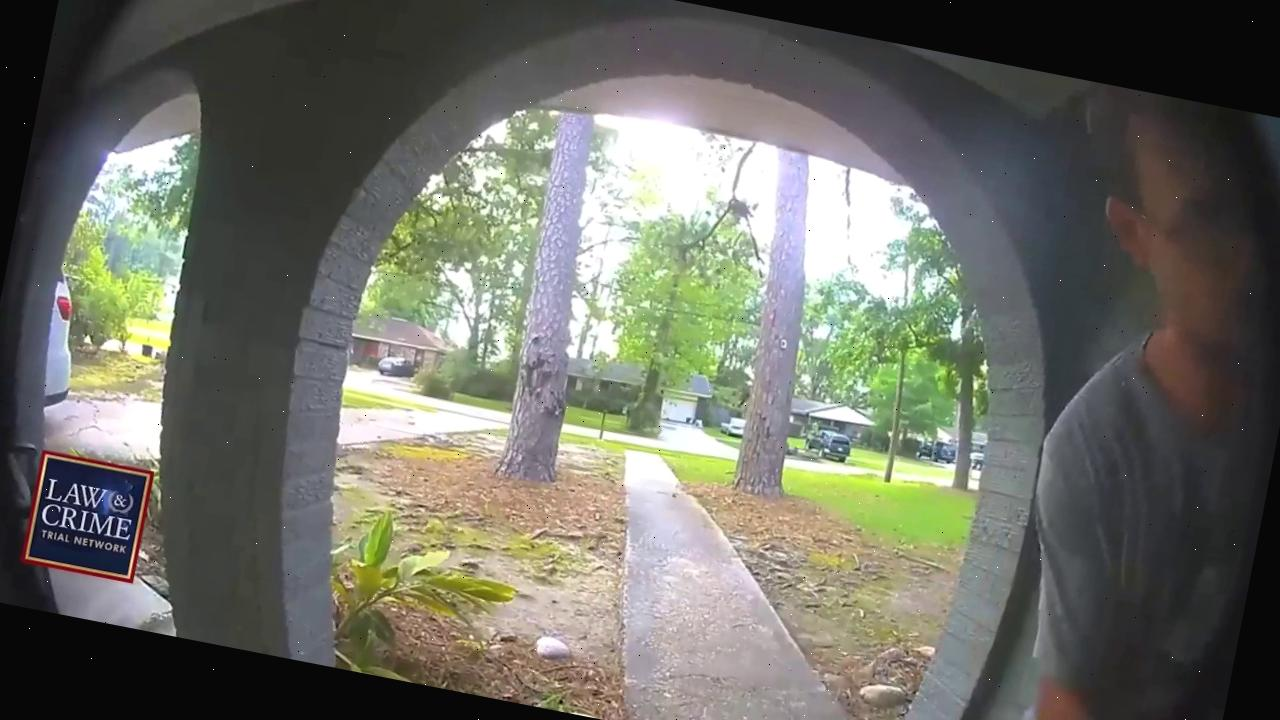suspicion: (918, 85, 1280, 720)
